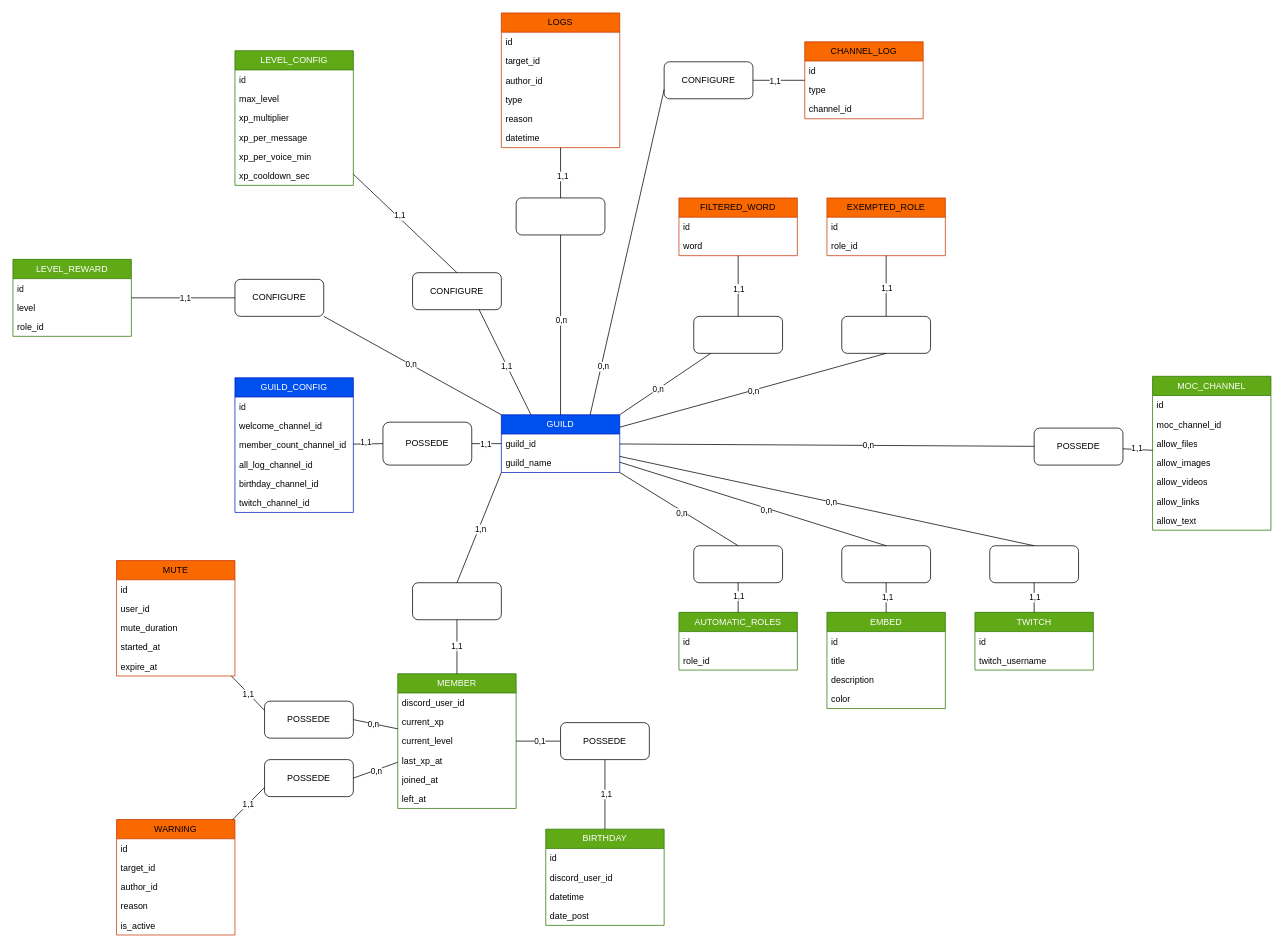
Some shapes in this 1284 by 950 pixel diagram are drawn without their labels. The centre of each missing label's shape, as x and y in pixels:
ATTRIBUT: pixel 738 564
CONTIENT: pixel 456 601
CREER: pixel 886 564
ENREGISTRE: pixel 560 216
GERE: pixel 886 334
INTERDIT: pixel 738 334
SURVEILLE: pixel 1034 564
